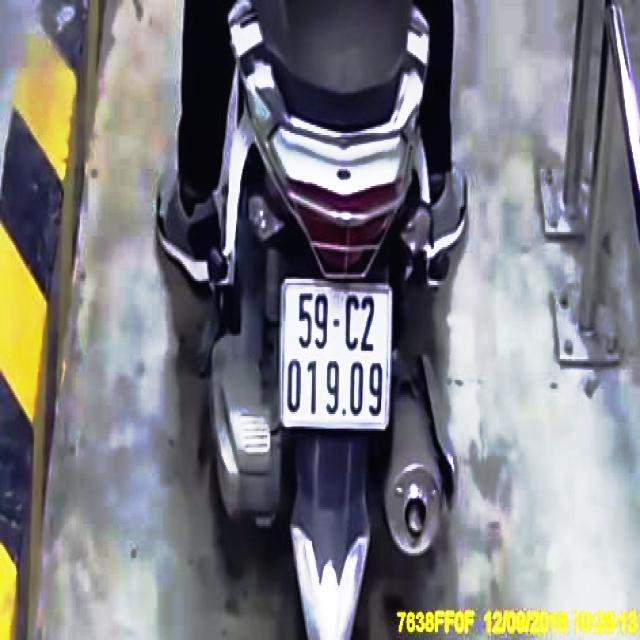license_plate: (283, 274, 393, 430)
